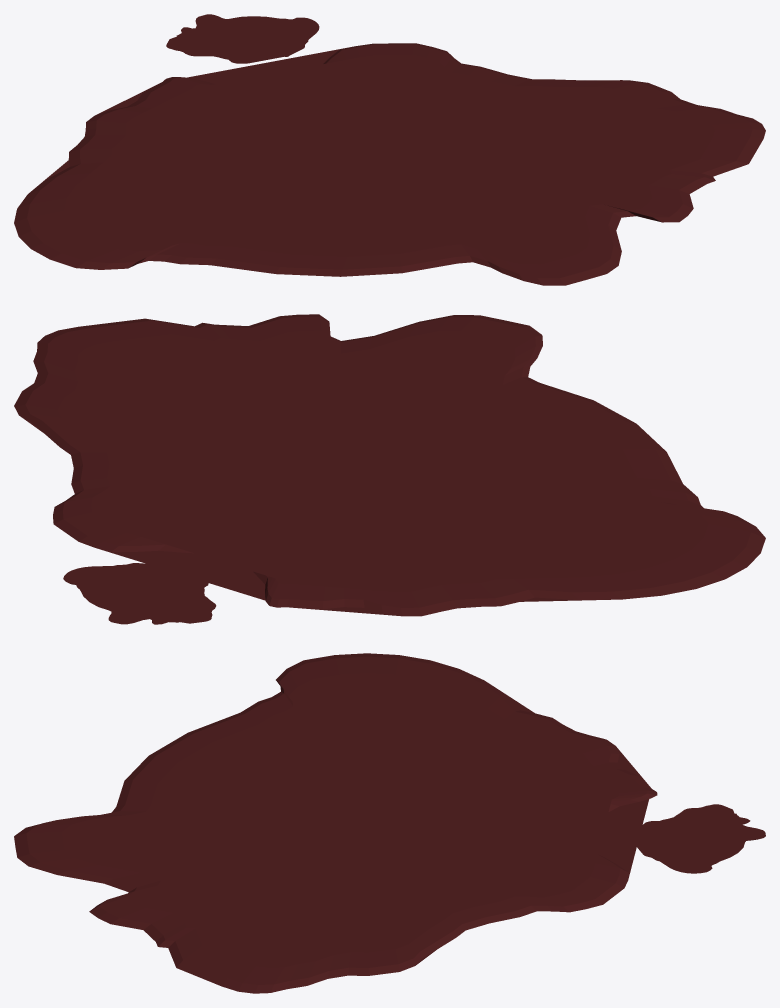
File: blood.fbx
3 views of the same model, one above another, from view 1: azimuth 30°, elevation 25°; view 2: azimuth 150°, elevation 25°; view 3: azimuth 270°, elevation 25° (orthographic). The views are drawn at different scales.
Visible parts, largest first — view 1: Cylinder; view 2: Cylinder; view 3: Cylinder.
Boxes of the visible parts, bbox=[...] form: Cylinder: bbox=[14, 14, 765, 285]; Cylinder: bbox=[14, 314, 765, 624]; Cylinder: bbox=[14, 653, 765, 993].
Bounding box in the file's own units: 190 × 1.11 × 177.
